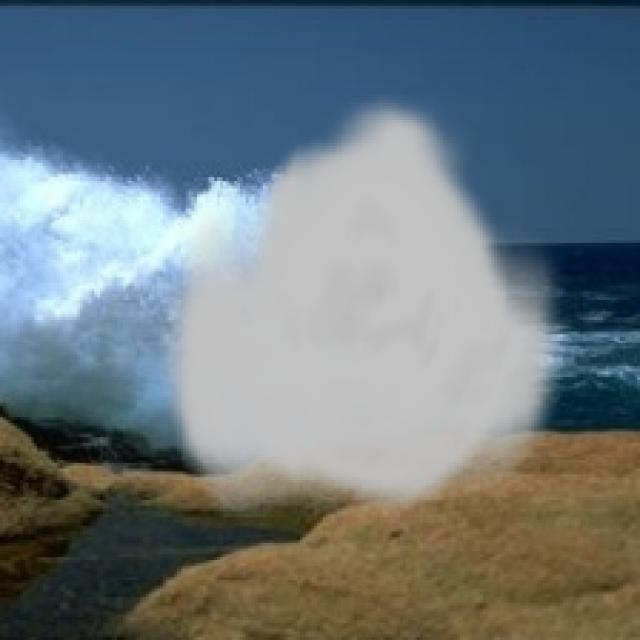smoke: (160, 94, 574, 517)
